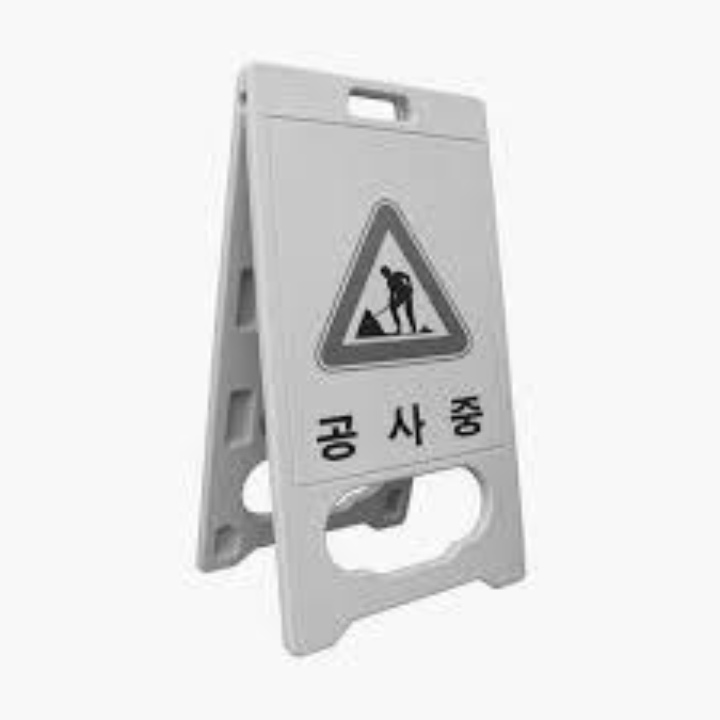const: (317, 241, 444, 350)
